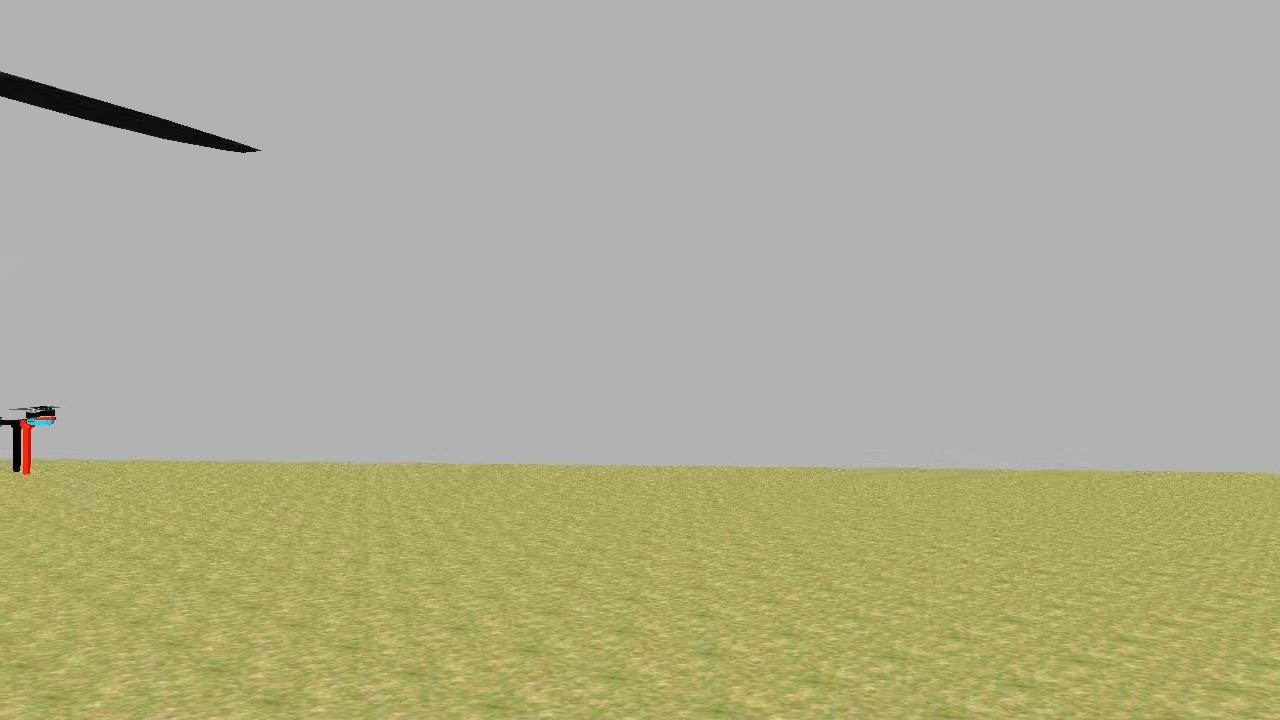UAV: (0, 394, 64, 478)
